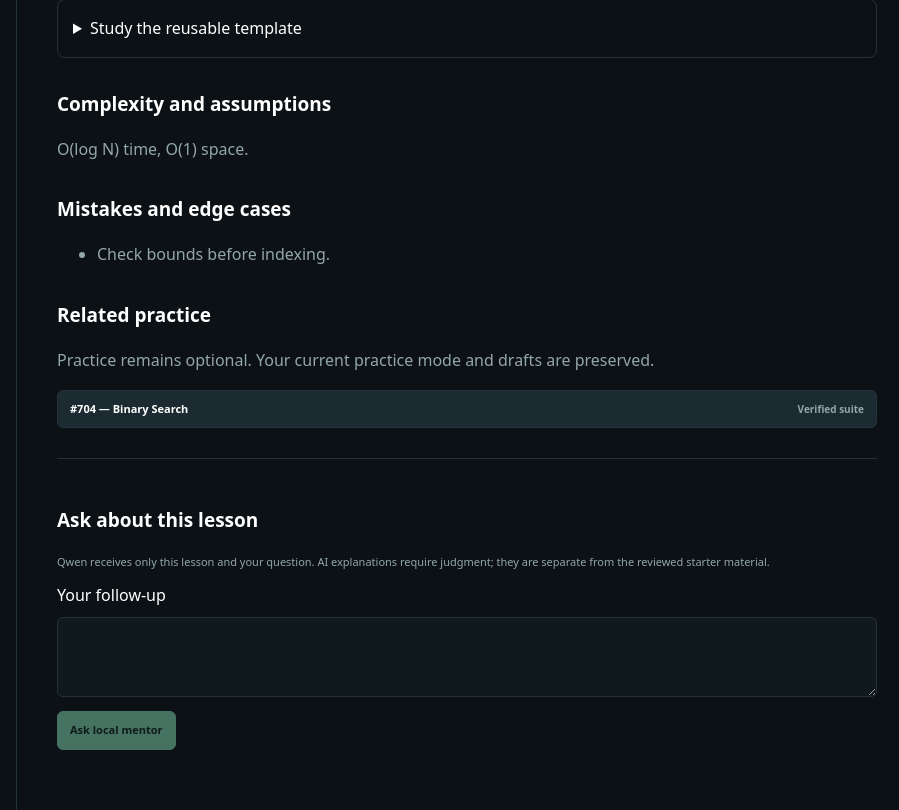
labels AI follow-up separately and retries without replacing reviewed material
(page scrolled)
Type "Why check bounds?" into the text box named "Lesson follow-up question" at (467, 657), box [57, 617, 877, 697]
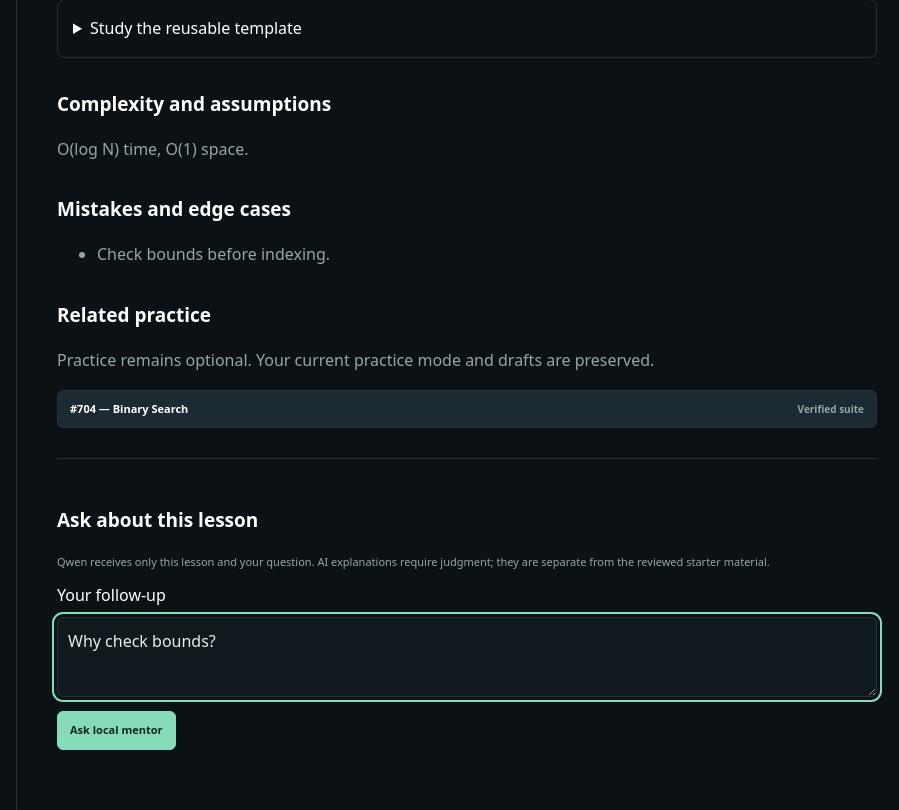
Click the button "Ask local mentor" at (116, 731), box [57, 711, 176, 750]
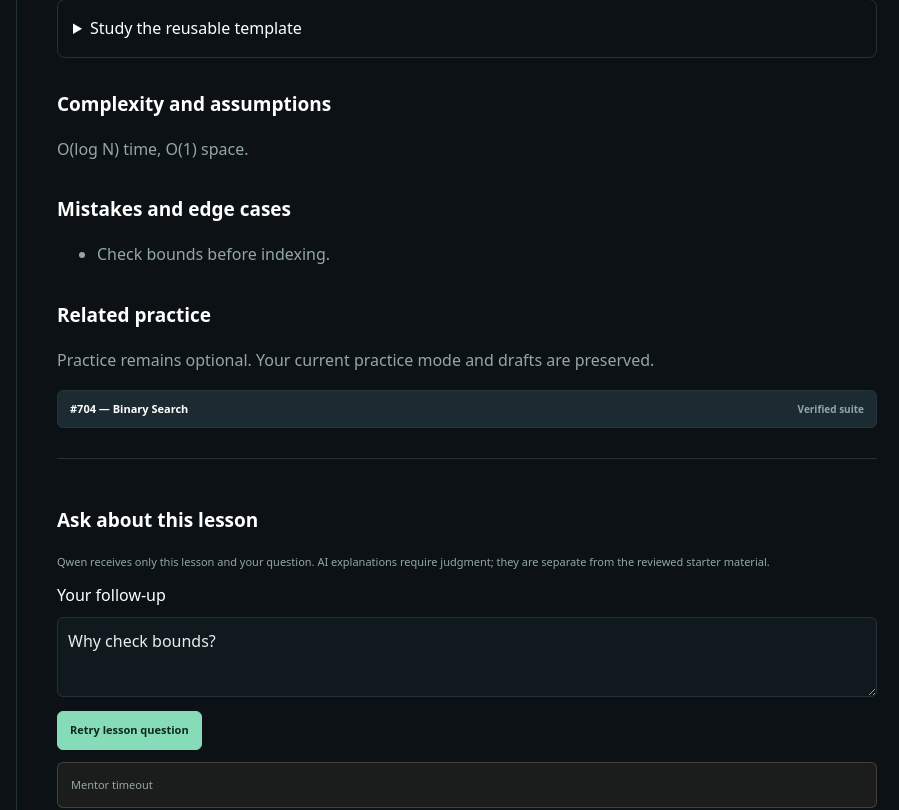
Expected: the message reads "Mentor timeout", [71, 777, 153, 792]
Click the button "Retry lesson question" at (129, 731), box [57, 711, 202, 750]
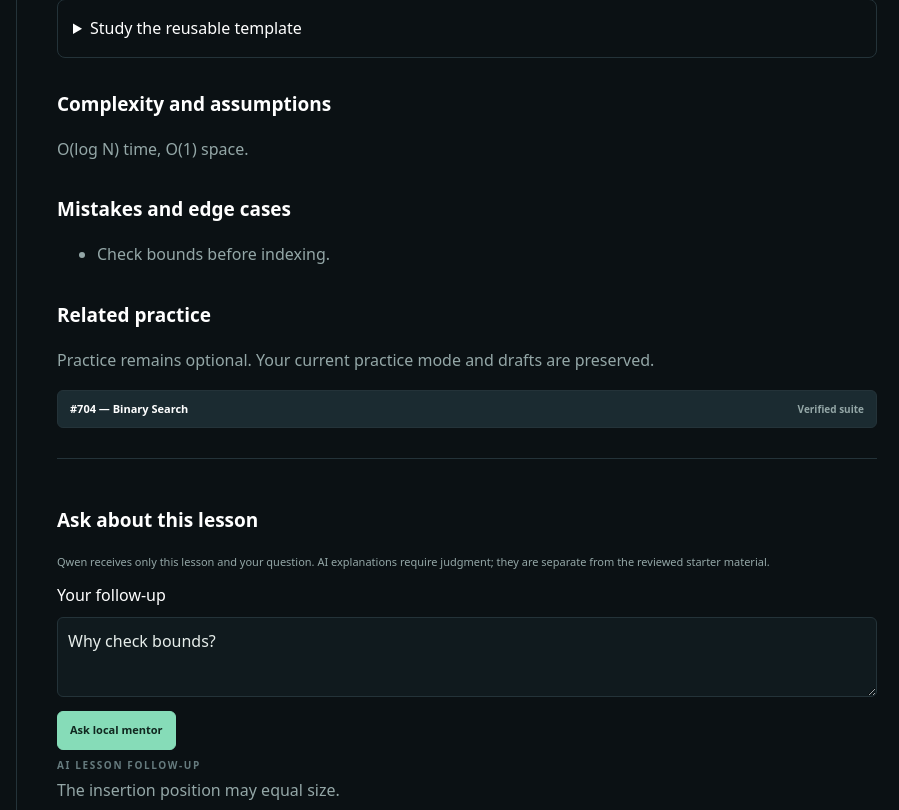
Expected: the text "AI LESSON FOLLOW-UP" is shown, [57, 758, 201, 772]
